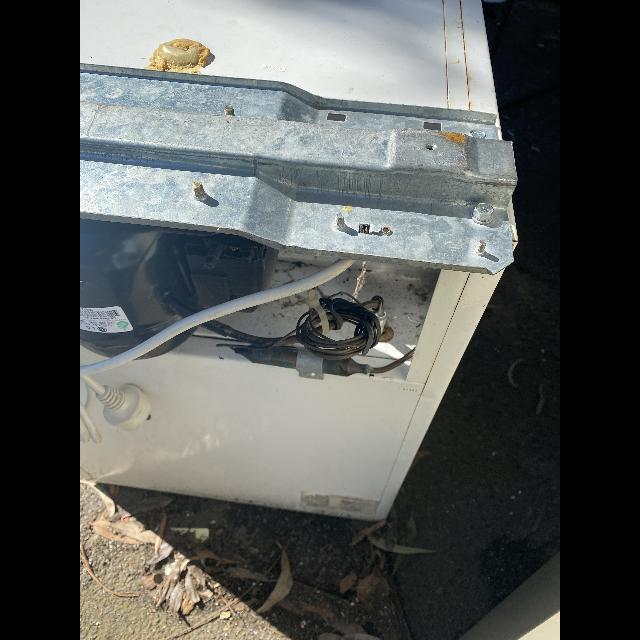Ferrous Metal: (80, 266, 506, 520), (80, 0, 503, 140)
Galvanized Steel: (80, 63, 518, 274)
